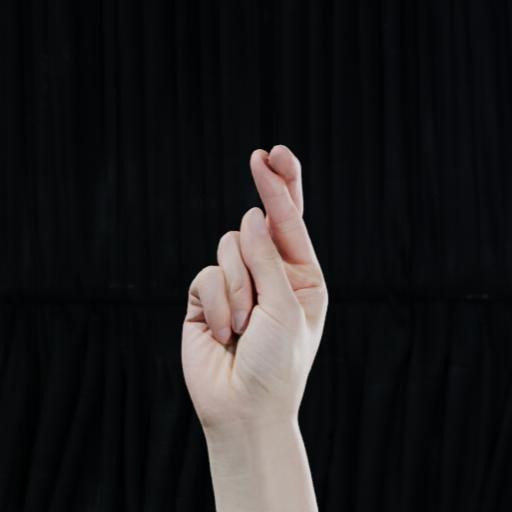R: (170, 138, 347, 452)
